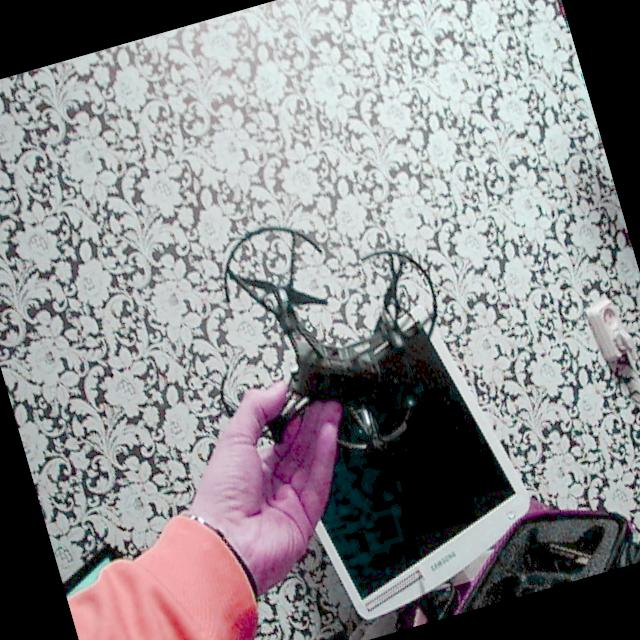drone: (192, 174, 482, 502)
